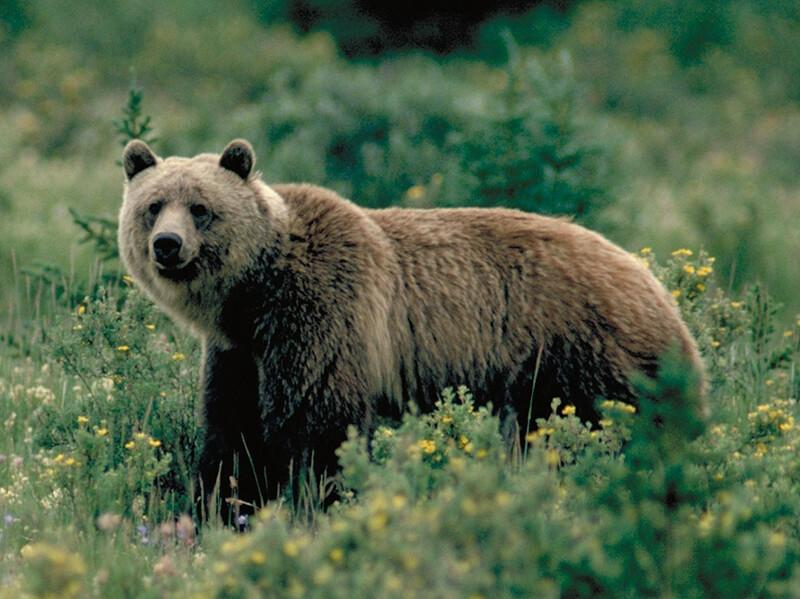ball: (119, 140, 701, 499)
